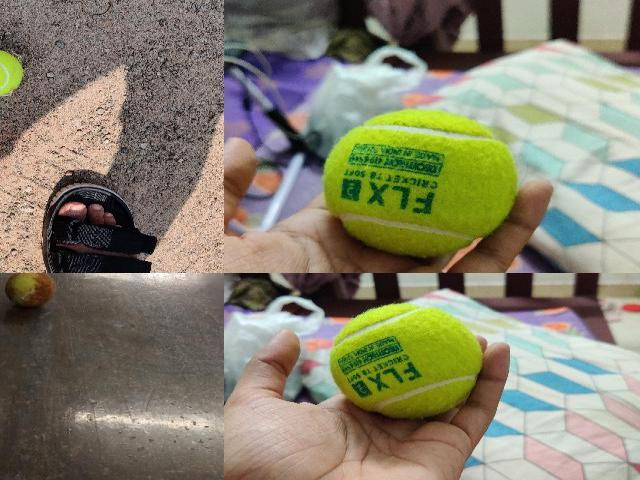tennis-ball: (322, 109, 518, 257), (330, 303, 482, 417), (4, 273, 57, 308), (0, 48, 23, 98)
